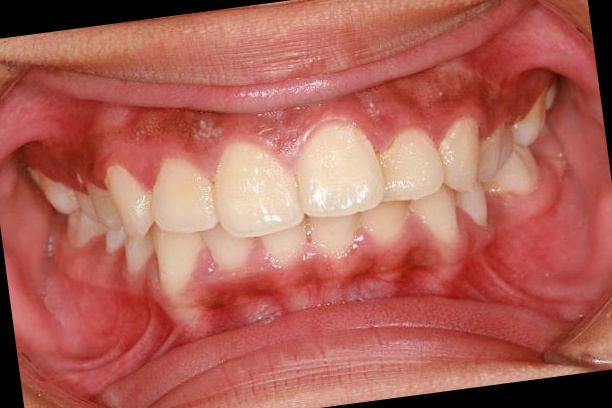Gingivitis: (191, 231, 506, 324), (375, 62, 529, 138), (127, 100, 230, 159)
